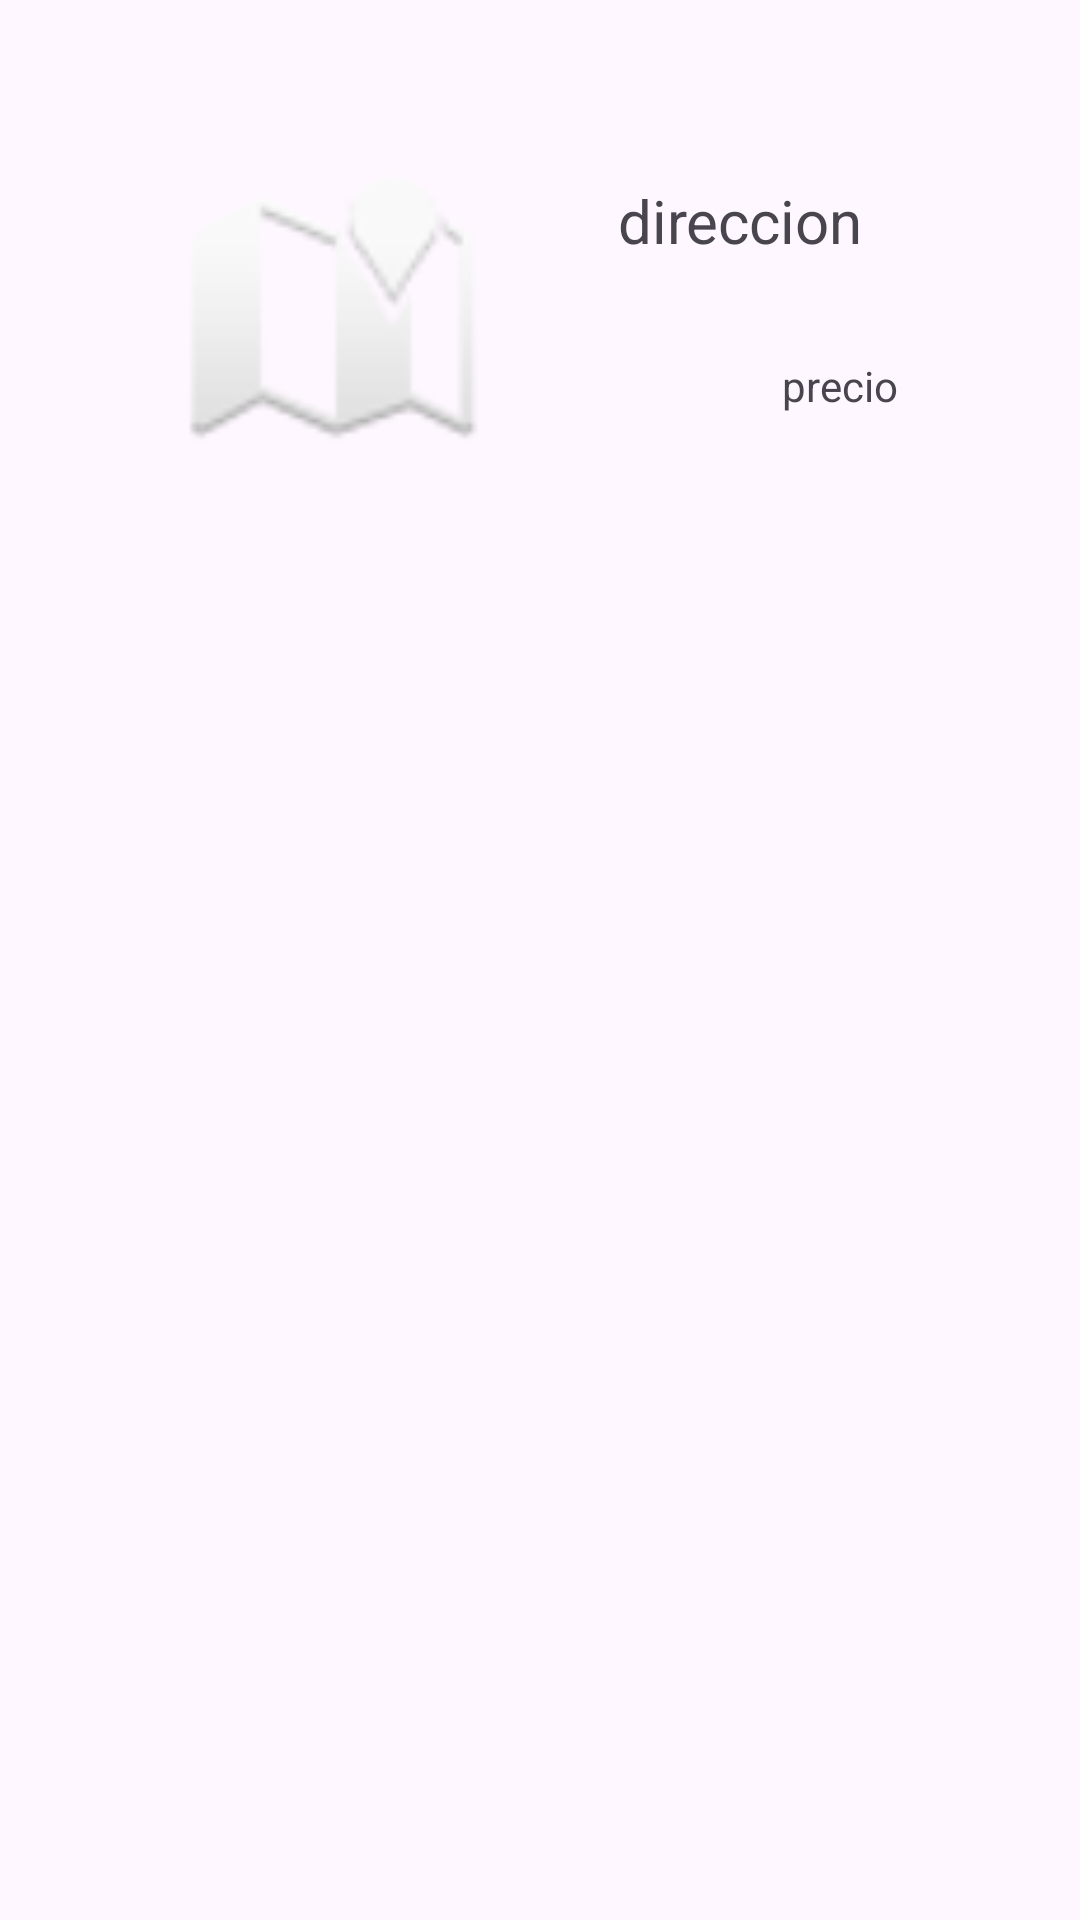

Point at icon controls on the screen. Image size 1080 x 1920, points as (x=x, y=y).
map: (x=332, y=322)
